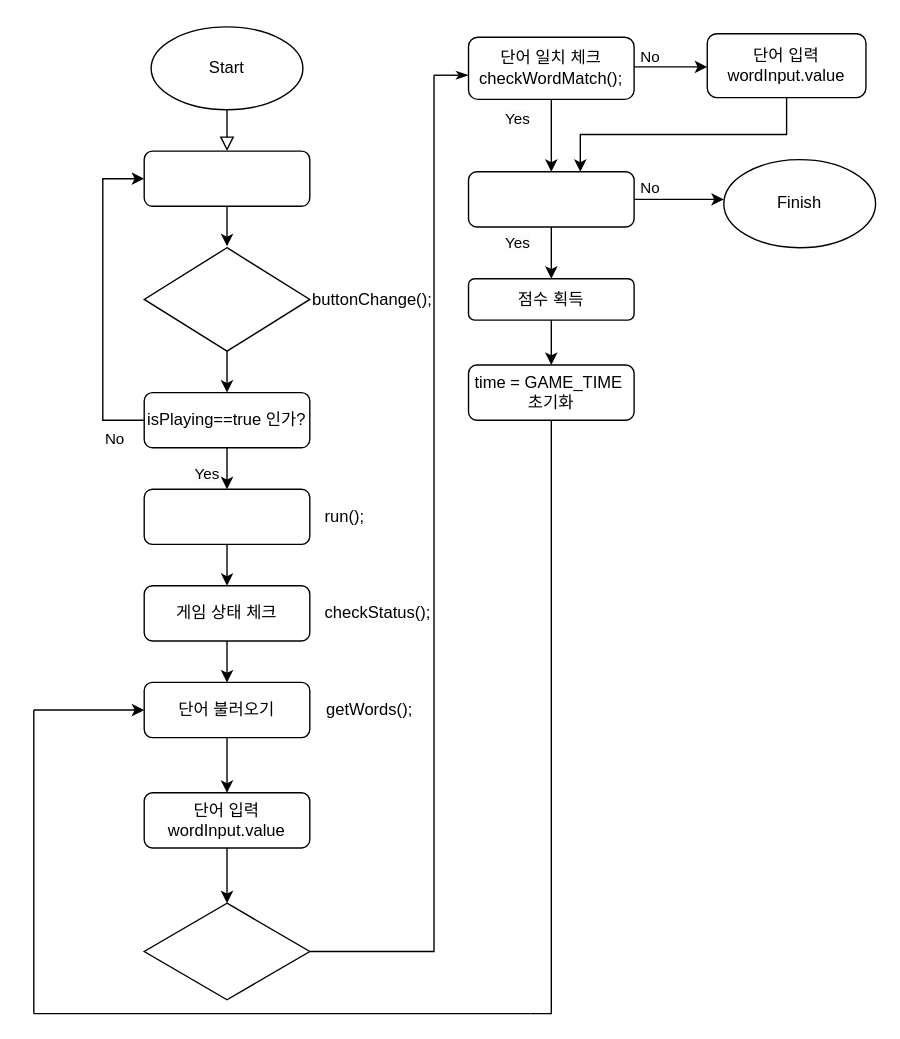
Some shapes in this 900 by 1039 pixel diagram are drawn without their labels. The centre of each missing label's shape, as x and y in pixels:
addEventListener(): point 226,951
게임 실행: point 226,516
게임 화면 로드 init();: point 226,178
남은시간 확인 countDown();: point 550,198
버튼 클릭: point 226,298
